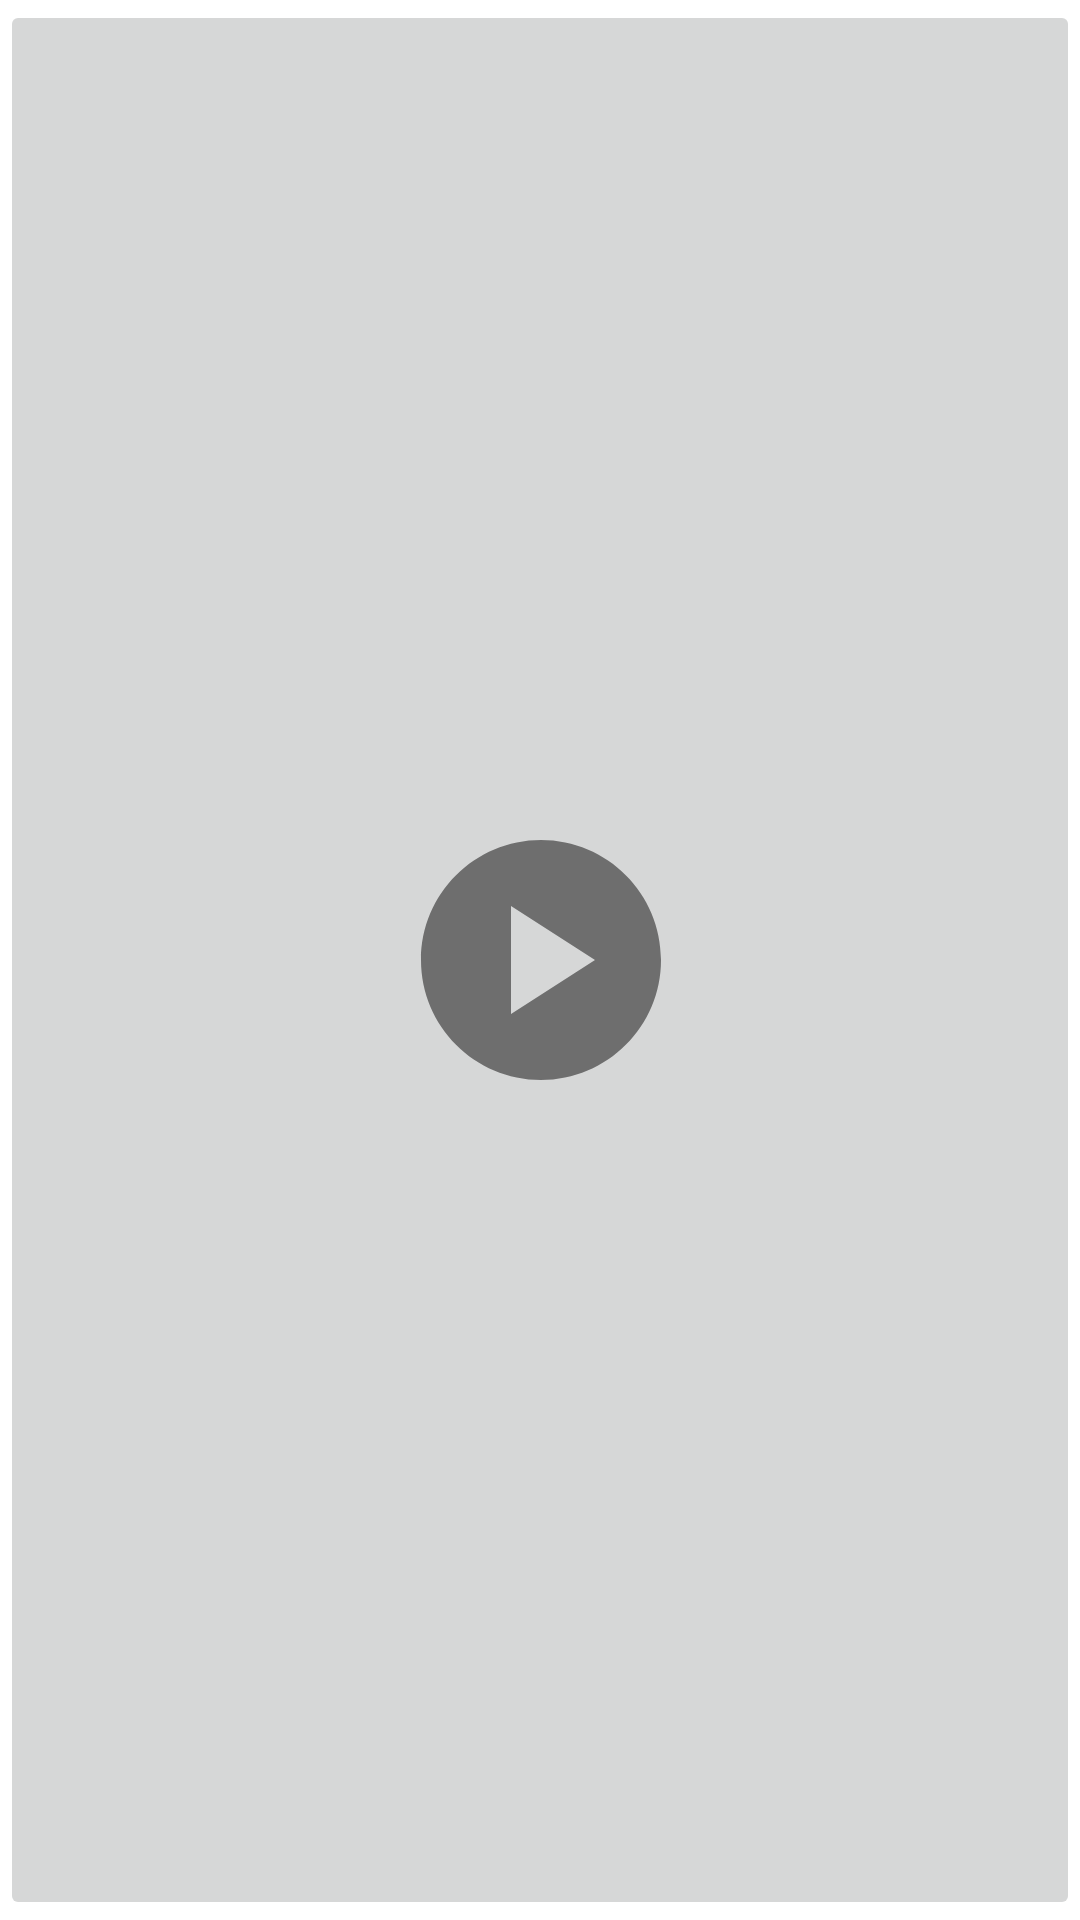

Icon bounding boxes for this 1080px×1920px phone screenshot, format (x1, y1, x2, y2):
Play video Netology: (421, 840, 661, 1080)
